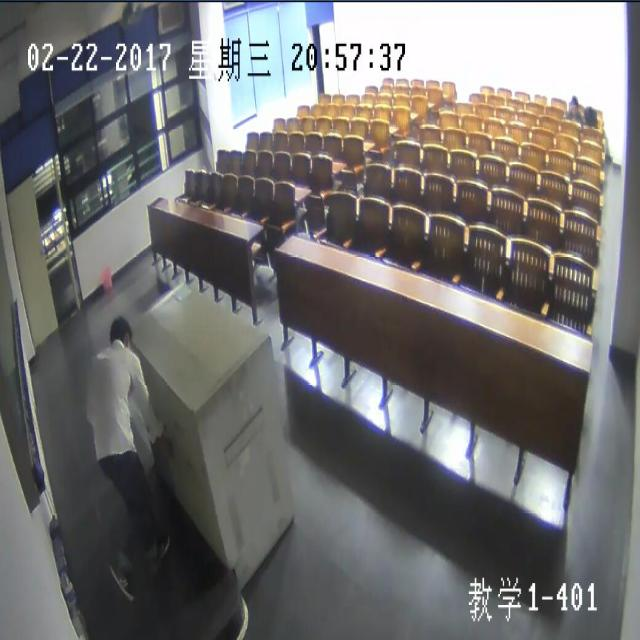person: (108, 316, 132, 361), (583, 106, 594, 122), (570, 95, 577, 116)
